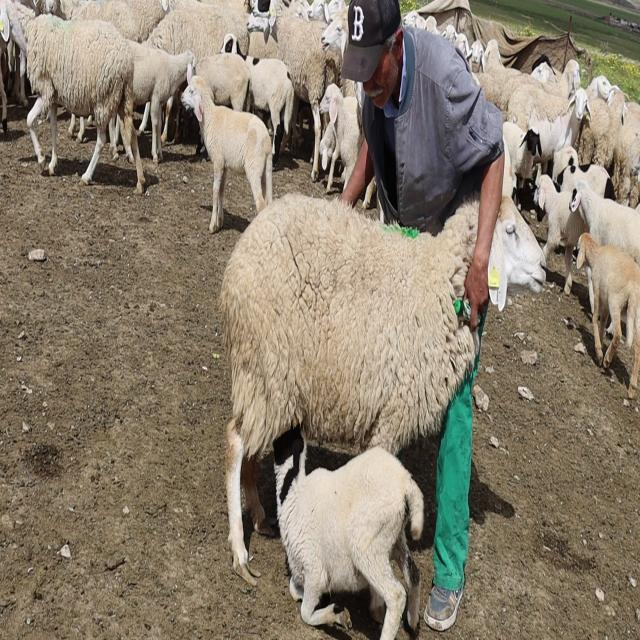Score_5: (220, 193, 479, 584)
